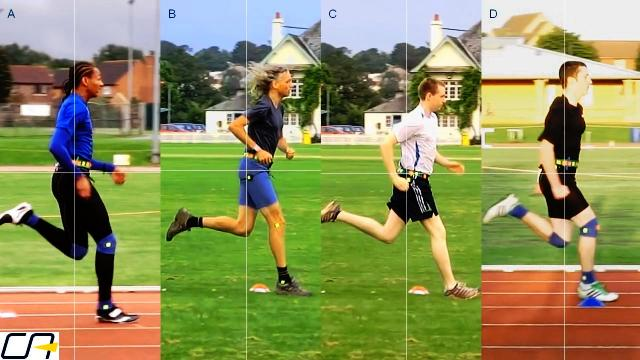berlari: (156, 55, 312, 301), (0, 54, 142, 324), (489, 50, 625, 314), (318, 78, 476, 300)
